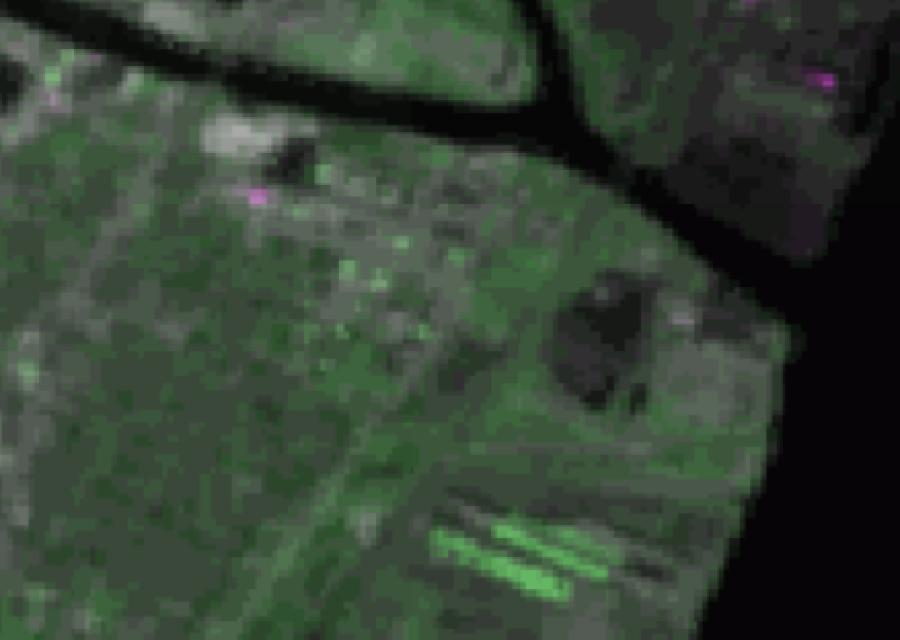Potential Lime Manufacturing Facility: (248, 187, 268, 206), (820, 70, 837, 88)
